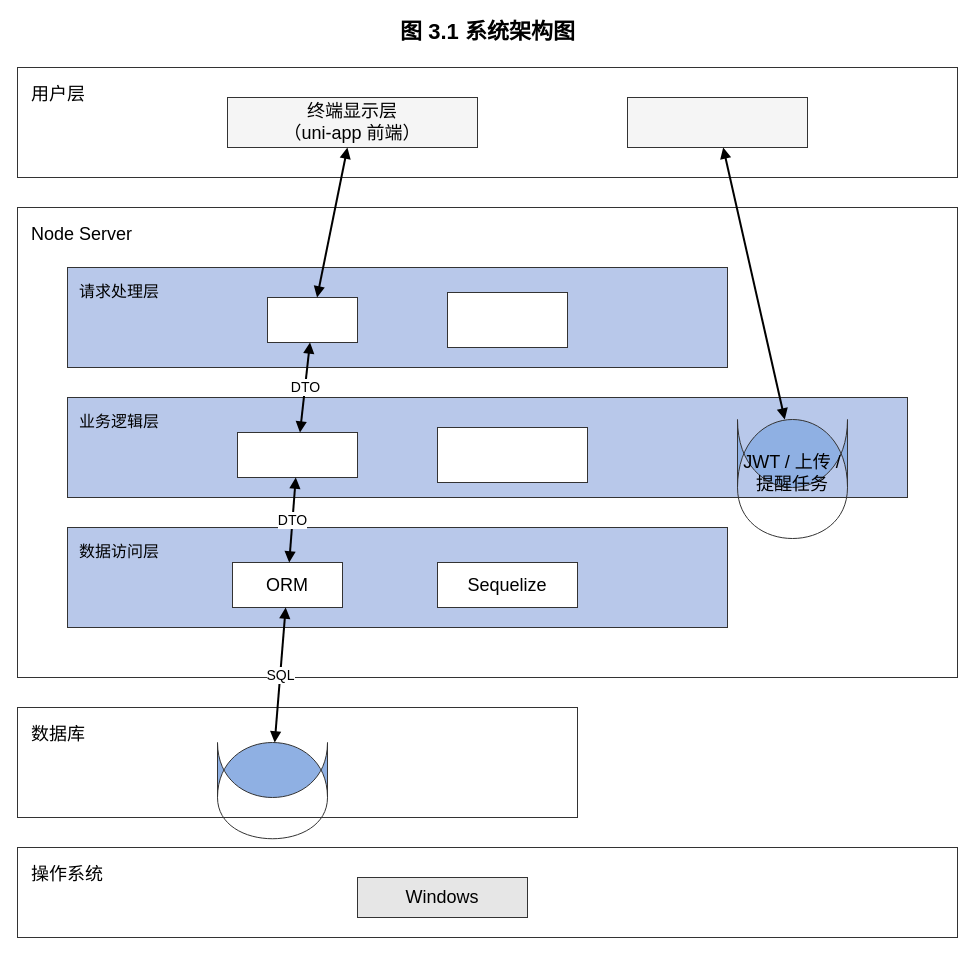
This 975x955 diagram has some shape labels left out. Each missing label, with the centre of its shape:
"Express Router" goes at [507,320].
"MySQL" goes at [272,770].
"Node.js Express" goes at [512,454].
"RESTful API" goes at [312,319].
"Service" goes at [297,455].
"开放接口层" goes at [717,122].
